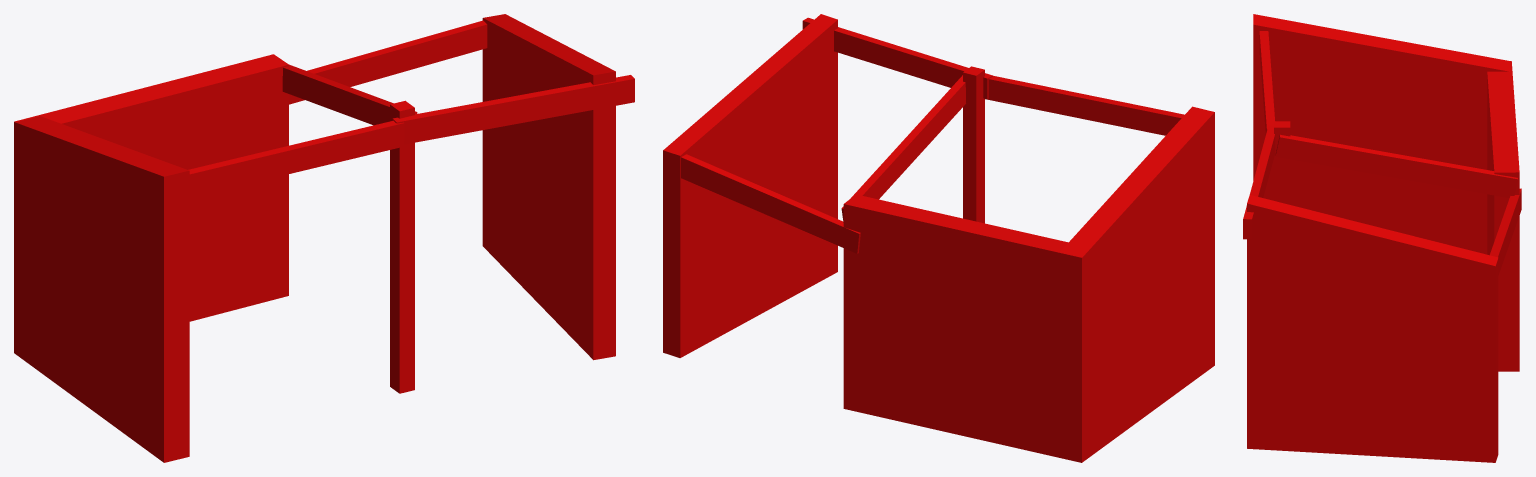
Rendered from SM_Bld_Junk_Shelter_01_Collision.fbx.
The picture shows the model from 3 angles, left to right: view 1: azimuth 30°, elevation 25°; view 2: azimuth 150°, elevation 25°; view 3: azimuth 270°, elevation 25°; orthographic projection. The views are drawn at different scales.
Parts seen in each view (by area): view 1: SM_Bld_Junk_Shelter_01_Collision; view 2: SM_Bld_Junk_Shelter_01_Collision; view 3: SM_Bld_Junk_Shelter_01_Collision.
Boxes of the visible parts, x1=… form: SM_Bld_Junk_Shelter_01_Collision: x1=14, y1=14, x2=634, y2=462; SM_Bld_Junk_Shelter_01_Collision: x1=663, y1=14, x2=1214, y2=462; SM_Bld_Junk_Shelter_01_Collision: x1=1243, y1=14, x2=1521, y2=462.
Size of the model in its own units: 479 by 272 by 278.
